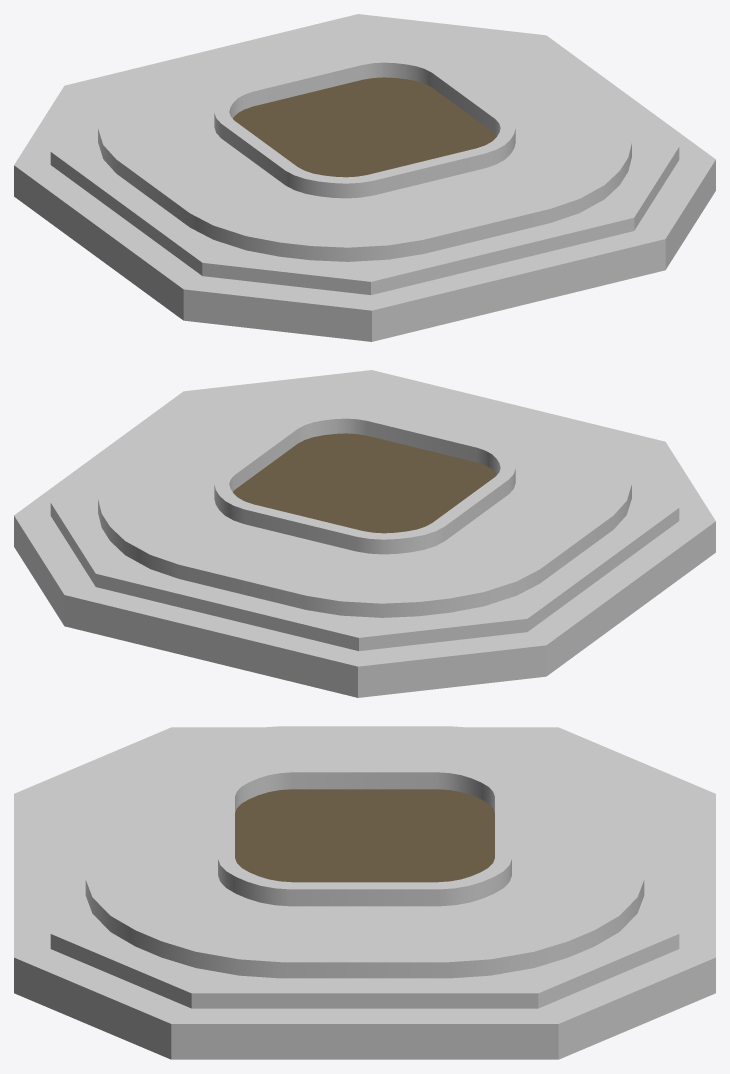
File: PlageCenter.fbx
The picture shows the model from 3 angles, top to bottom: view 1: azimuth 30°, elevation 25°; view 2: azimuth 150°, elevation 25°; view 3: azimuth 270°, elevation 25°; orthographic projection. The views are drawn at different scales.
Visible parts, largest first — view 1: PlageCenter; view 2: PlageCenter; view 3: PlageCenter.
Part boxes in pixels (x1,y1,x2,y2): PlageCenter: (14, 14, 715, 341); PlageCenter: (14, 370, 715, 697); PlageCenter: (14, 726, 715, 1059).
Bounding box in the file's own units: 731 × 96.63 × 731.
